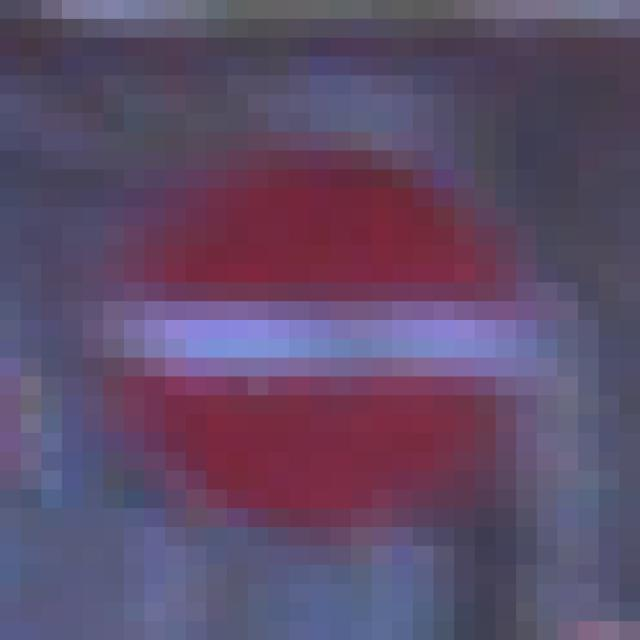No Entry: (104, 114, 538, 547)
